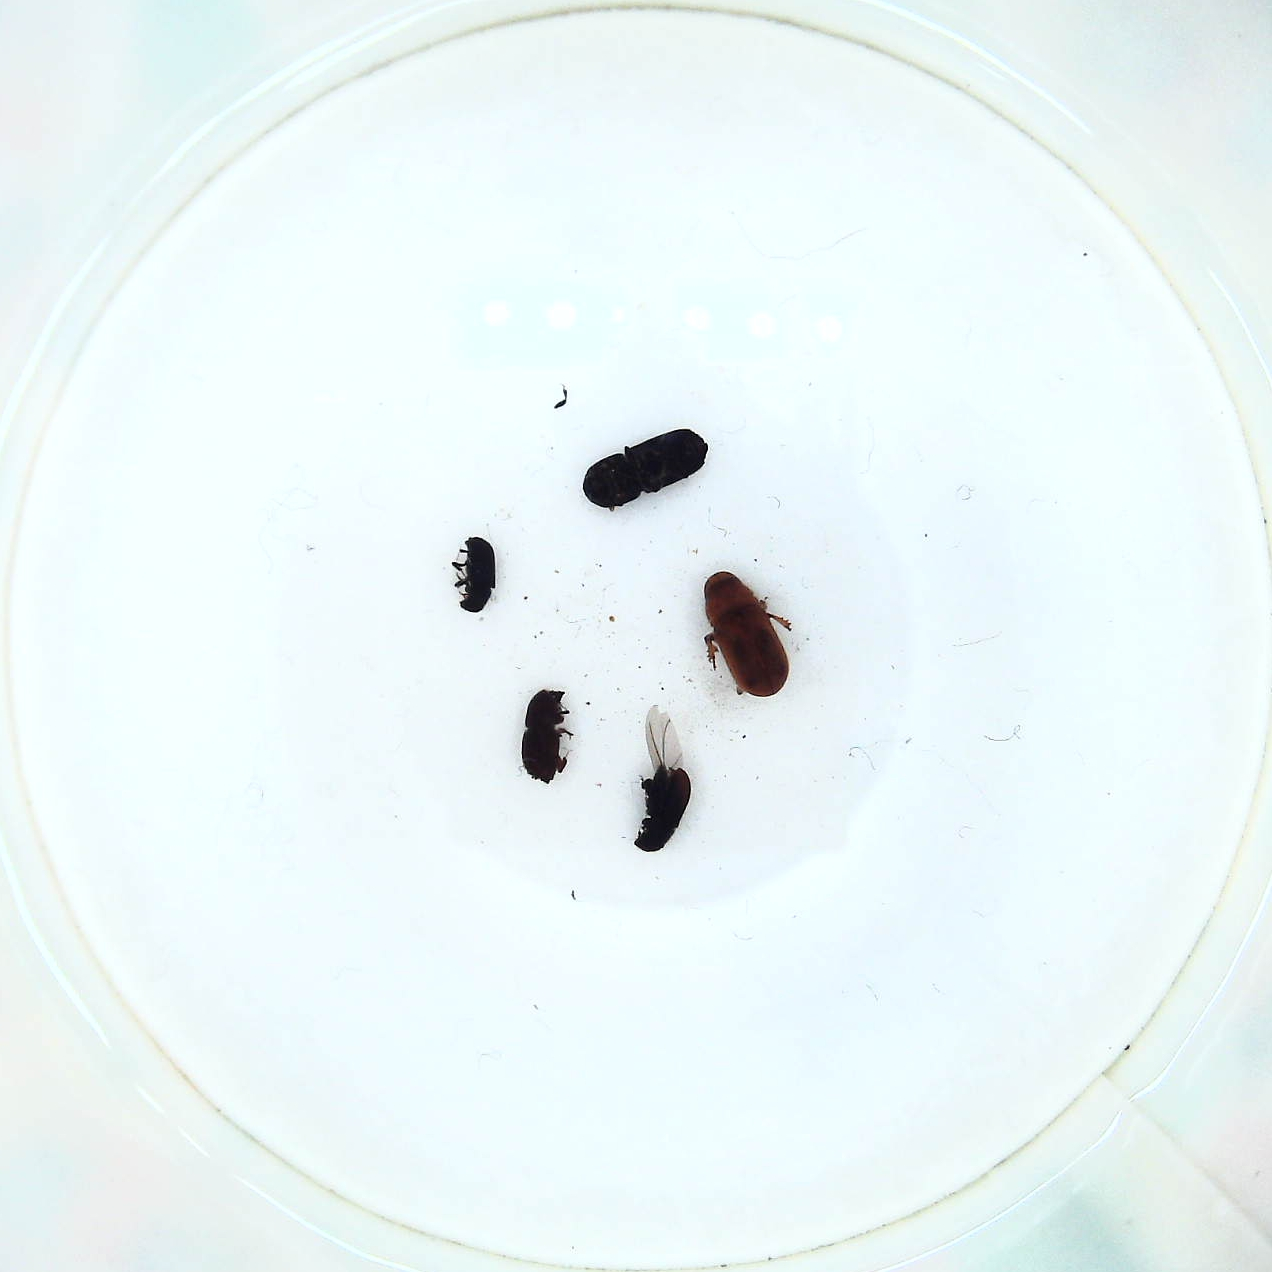Boerner: (580, 431, 714, 514)
Leconte: (697, 568, 799, 707)
armandi: (633, 712, 699, 856)
coleoptera: (453, 531, 504, 617)
linnaeus: (520, 685, 572, 783)
